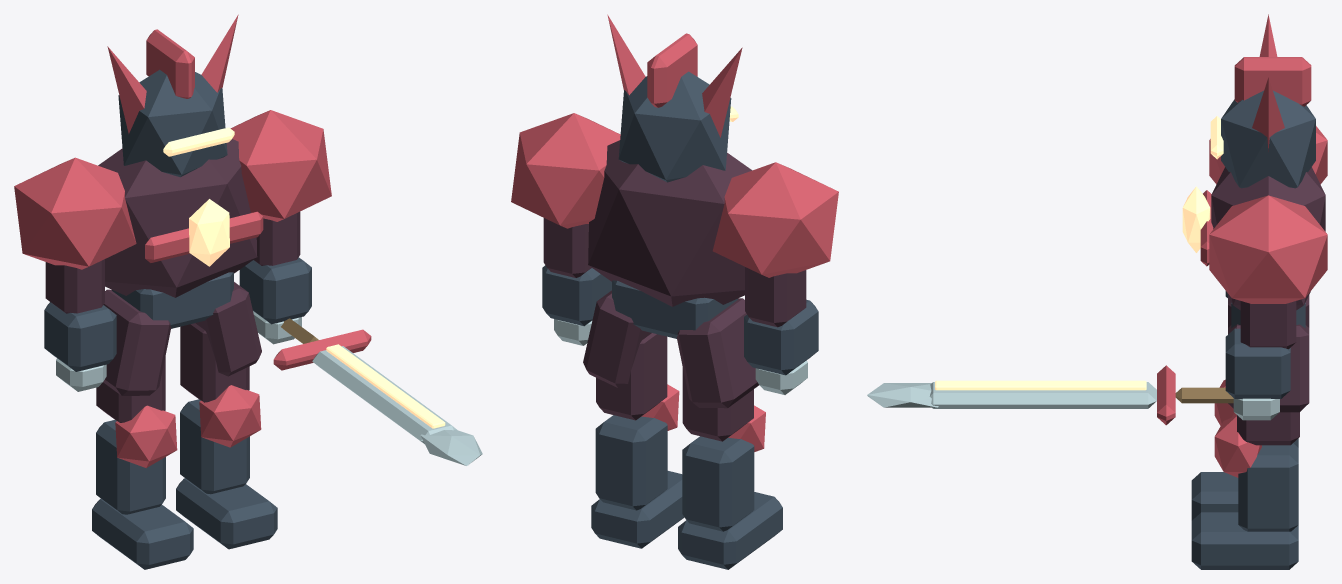
The model's file is Sentinel.fbx.
The picture shows the model from 3 angles, left to right: view 1: azimuth 30°, elevation 25°; view 2: azimuth 150°, elevation 25°; view 3: azimuth 270°, elevation 25°; orthographic projection. The views are drawn at different scales.
Visible parts, largest first — view 1: Breastplate.001, Pauldron.002, Pauldron.003, Helm.001, Boot.002, Boot.003, Tasset.002, Shin.003, Shin.002, Gauntlet.002, Gauntlet.003, Tasset.003 (+19 smaller); view 2: Breastplate.001, Pauldron.002, Pauldron.003, Helm.001, Shin.003, Shin.002, Tasset.002, Boot.002, Boot.003, Gauntlet.002, Tasset.003, Thigh.003 (+12 smaller); view 3: Pauldron.003, Helm.001, Boot.003, Shin.003, Blade.001, Gauntlet.003, Breastplate.001, Crest.001, UpperArm.003, BladeRune.001, Boot.002, Tasset.003 (+9 smaller).
Boxes of the visible parts, box(x1,y1,x2,y2) form: Breastplate.001: box(98, 139, 257, 297); Pauldron.002: box(14, 157, 136, 269); Pauldron.003: box(230, 110, 331, 221); Helm.001: box(118, 69, 227, 177); Boot.002: box(92, 499, 193, 569); Boot.003: box(176, 478, 277, 549); Tasset.002: box(103, 289, 171, 395); Shin.003: box(180, 399, 249, 494); Shin.002: box(96, 420, 165, 514); Gauntlet.002: box(44, 302, 116, 371); Gauntlet.003: box(239, 257, 311, 324); Tasset.003: box(195, 282, 261, 376); Breastplate.001: box(588, 140, 752, 306); Pauldron.002: box(712, 162, 838, 277); Pauldron.003: box(511, 113, 620, 228); Helm.001: box(618, 71, 731, 182); Shin.003: box(595, 415, 667, 510); Shin.002: box(682, 436, 754, 531); Tasset.002: box(676, 298, 758, 408); Boot.002: box(678, 492, 782, 569); Boot.003: box(591, 471, 684, 548); Gauntlet.002: box(744, 299, 818, 375); Tasset.003: box(583, 290, 651, 387); Thigh.003: box(596, 333, 667, 420); Pauldron.003: box(1209, 195, 1327, 303); Helm.001: box(1221, 90, 1315, 188); Boot.003: box(1191, 512, 1298, 569); Shin.003: box(1238, 443, 1298, 531); Blade.001: box(929, 382, 1156, 408); Gauntlet.003: box(1225, 328, 1290, 398); Breastplate.001: box(1211, 167, 1325, 310); Crest.001: box(1234, 57, 1311, 106); UpperArm.003: box(1240, 301, 1296, 349); BladeRune.001: box(935, 380, 1146, 390); Boot.002: box(1191, 472, 1238, 520); Tasset.003: box(1228, 324, 1309, 412).
Bounding box in the file's own units: 148 × 235 × 198.
